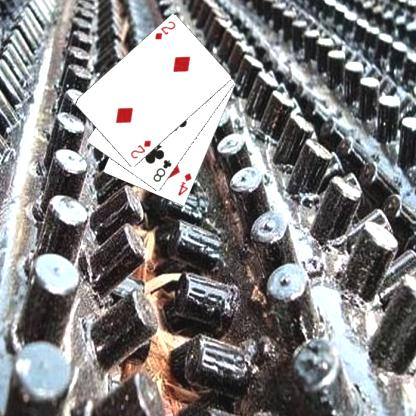2D: (152, 19, 177, 41), (128, 138, 152, 160)
4D: (175, 170, 193, 198)
8C: (150, 158, 173, 184)
